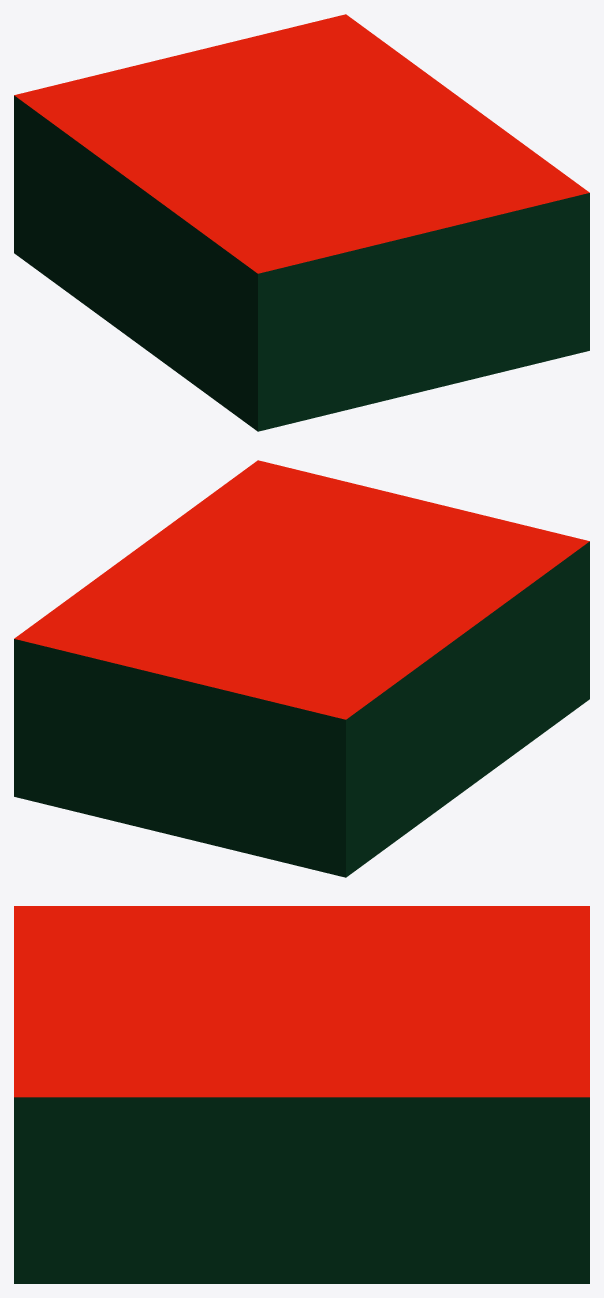
File: room.obj
3 renders of one model, top to bottom at view 1: azimuth 30°, elevation 25°; view 2: azimuth 150°, elevation 25°; view 3: azimuth 270°, elevation 25°, orthographic. The views are drawn at different scales.
Visible parts, largest first — view 1: Ceiling, Wall2, Wall3; view 2: Ceiling, Wall4, Wall3; view 3: Ceiling, Wall1.
Boxes of the visible parts, box(x1,y1,x2,y2) form: Ceiling: box(14, 14, 589, 273); Wall2: box(258, 193, 589, 431); Wall3: box(14, 95, 257, 431); Ceiling: box(14, 460, 589, 719); Wall4: box(14, 639, 345, 877); Wall3: box(346, 541, 589, 877); Ceiling: box(14, 906, 589, 1097); Wall1: box(14, 1097, 589, 1283).
Bounding box in the file's own units: 4.4 × 2 × 5.6.
